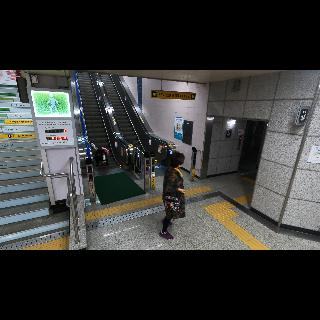anomaly: (83, 138, 111, 168)
normal: (160, 149, 186, 241)
